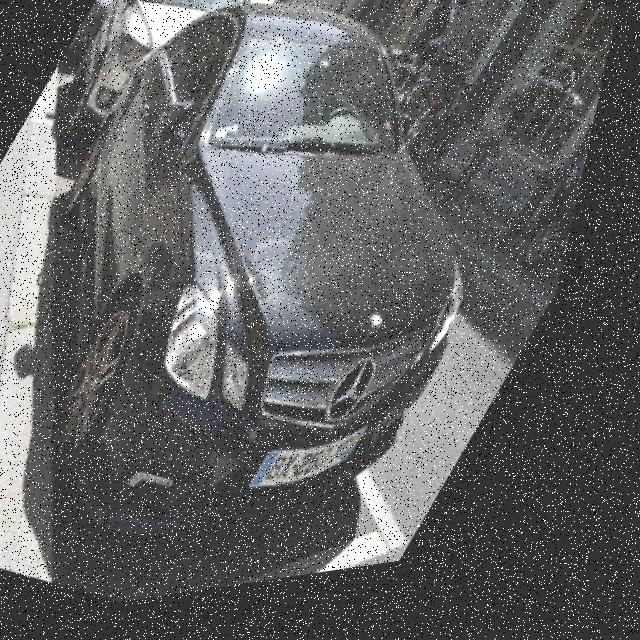license_plate: (264, 408, 396, 531)
